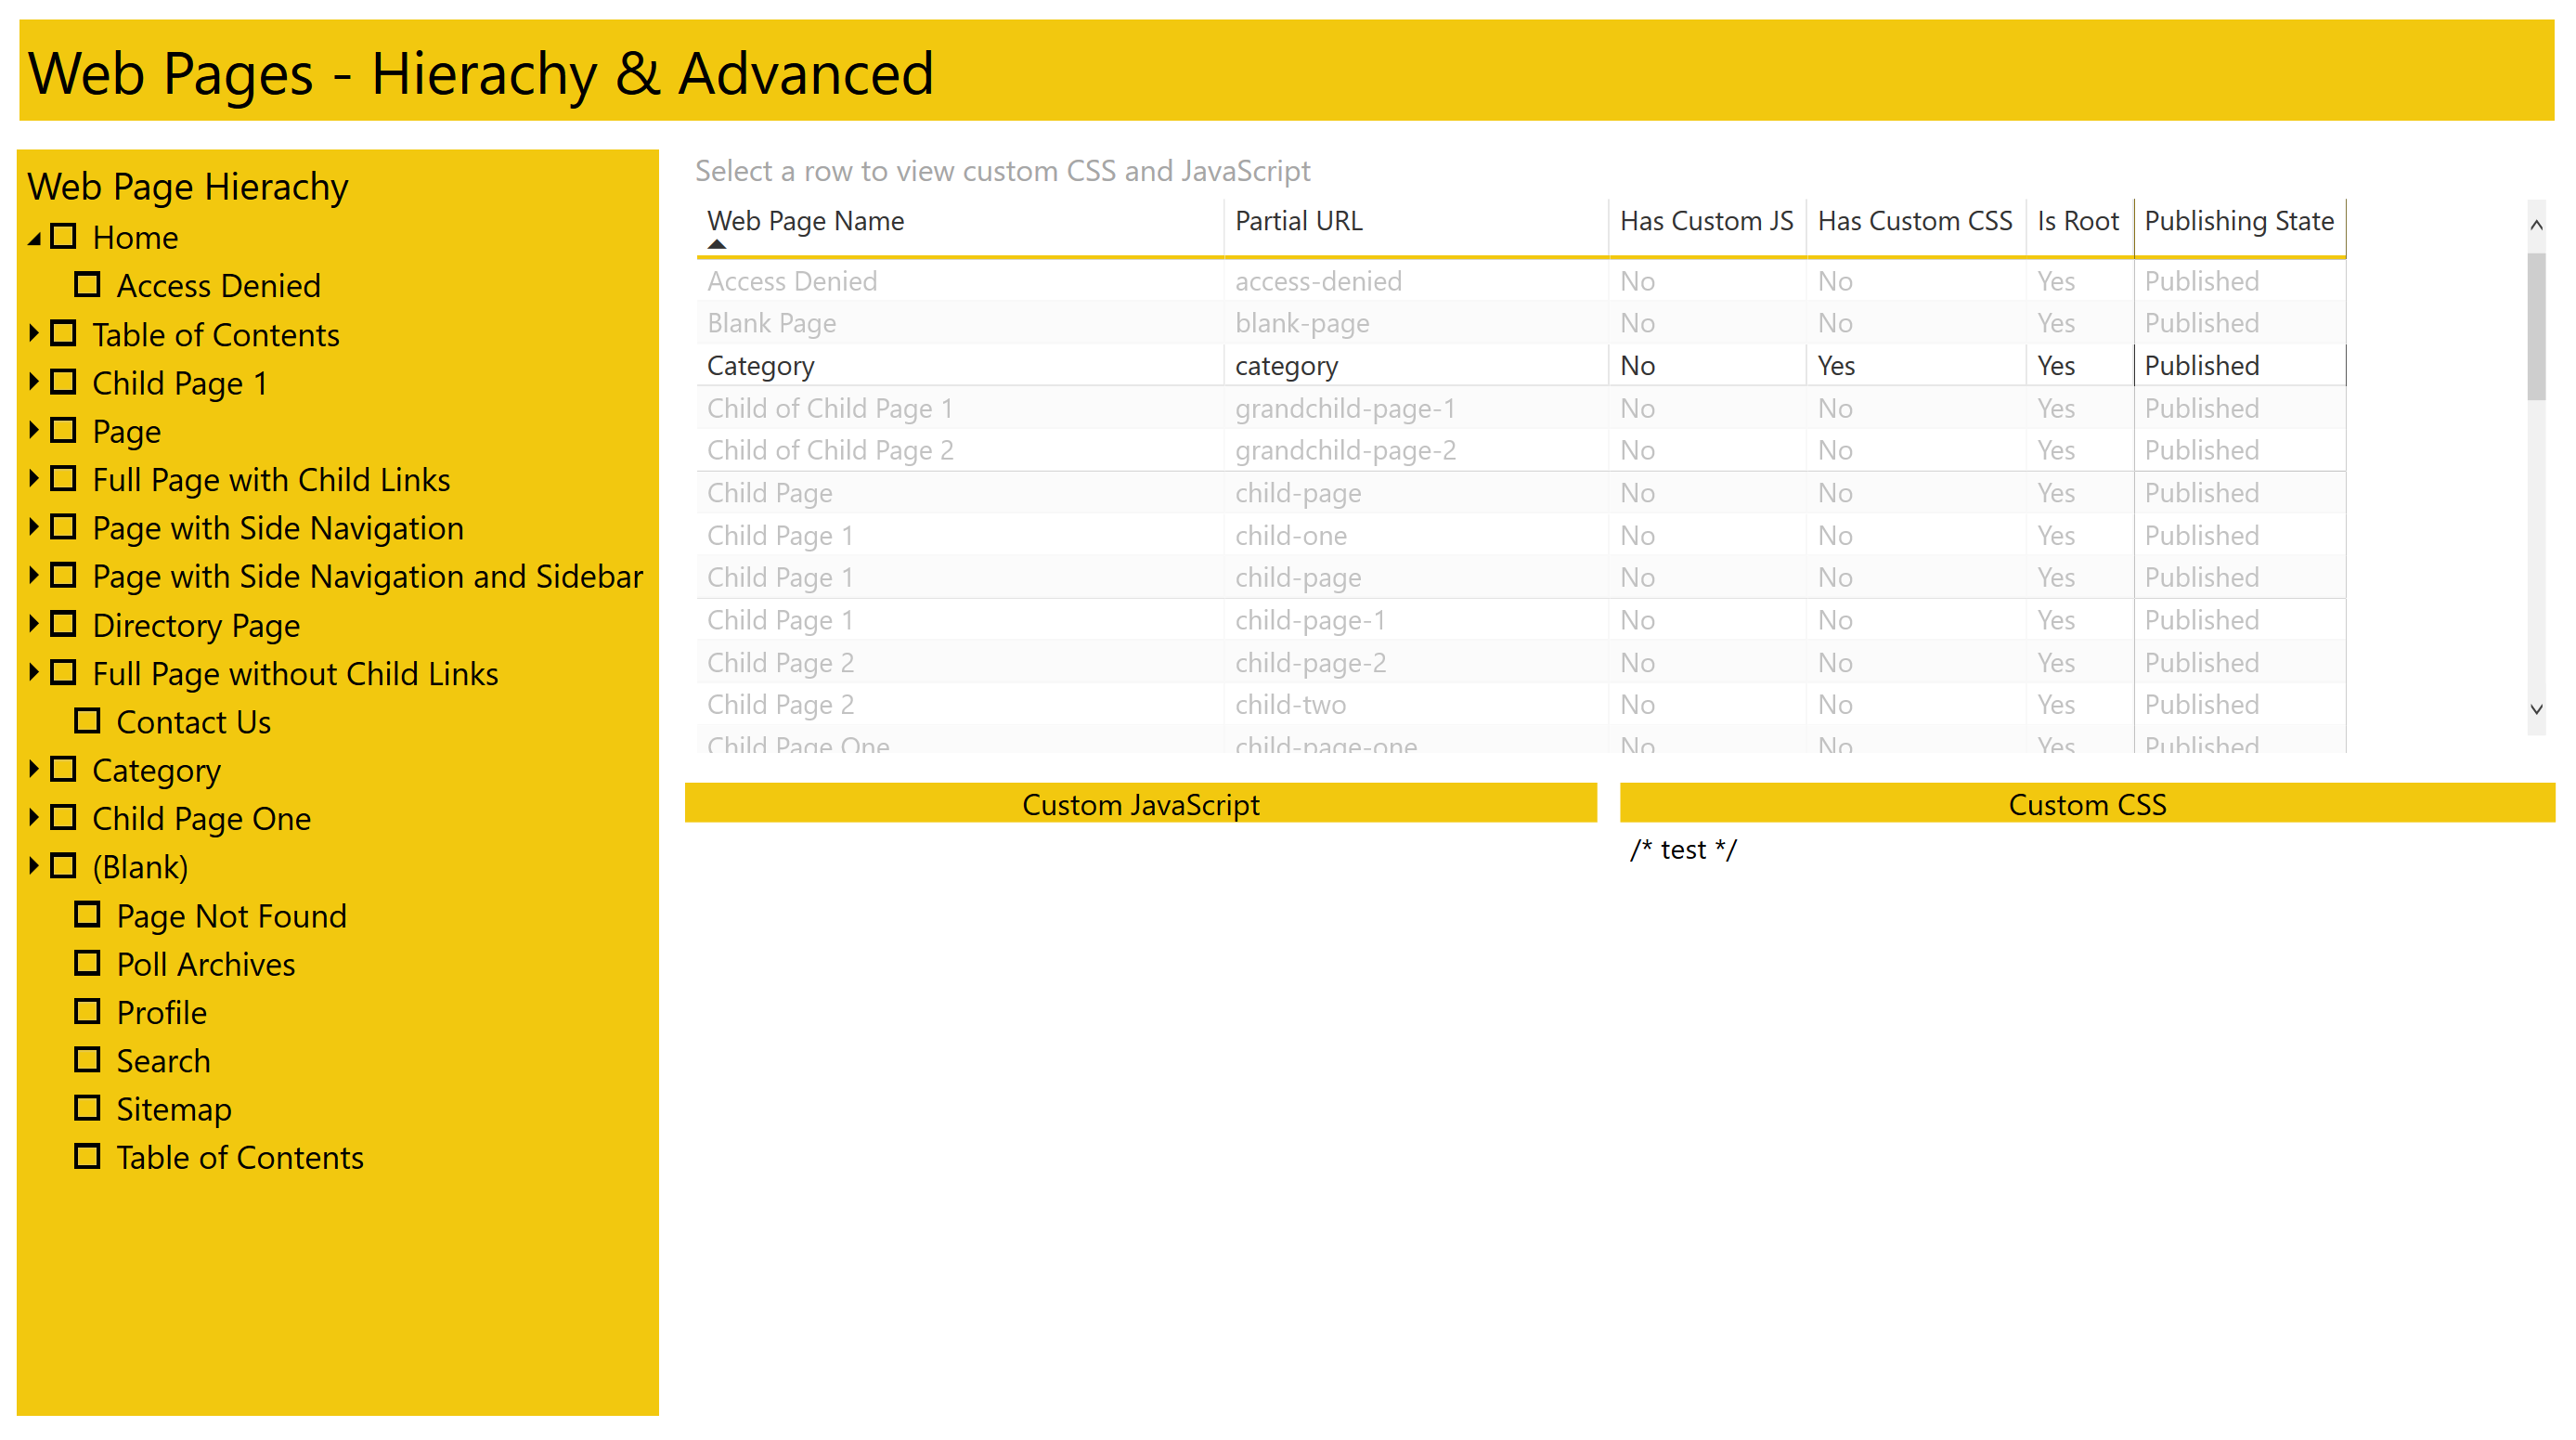

The dashboard page shown, as its layout file describes it:
{"tool":"powerbi","page":{"name":"Web Pages - Advanced","canvas":[1280,720],"ordinal":3},"visuals":[{"type":"HierarchySlicer1458836712039","fields":{"Fields":["Web Pages.Parent Page","Web Pages.Web Page Name"]},"box":[11.5,79,318.4,627.9],"z":0},{"type":"htmlViewerB24A1AEC2B4F4998B8E9A380662CAA2A","title":"Custom JavaScript","fields":{"category":["Web Pages.Display JS"]},"box":[342.6,393.6,452.1,315.9],"z":1000},{"type":"tableEx","title":"Select a row to view custom CSS and JavaScript","fields":{"Values":["Web Pages.Web Page Name","Web Pages.Partial URL","Web Pages.Has Custom JS","Web Pages.Has Custom CSS","Web Pages.Is Root","Web Pages.Publishing State"]},"box":[342.6,79,927.2,304.4],"z":3000},{"type":"actionButton","box":[12.9,15.2,1256.5,50.3],"z":4000},{"type":"htmlViewerB24A1AEC2B4F4998B8E9A380662CAA2A","title":"Custom CSS","fields":{"category":["Web Pages.Display CSS"]},"box":[806.2,393.6,463.6,315.9],"z":5000}]}

Visuals, with their boxes in screenshot pixels (x1, y1, x2, y2), scaled from the page's 1280x720 canvas onto the 2576x1440 screenshot:
HierarchySlicer1458836712039 - Web Pages.Parent Page x Web Pages.Web Page Name: 23, 158, 664, 1414
"Custom JavaScript" htmlViewerB24A1AEC2B4F4998B8E9A380662CAA2A: 690, 787, 1599, 1419
"Select a row to view custom CSS and JavaScript" tableEx: 690, 158, 2556, 767
actionButton: 26, 31, 2555, 131
"Custom CSS" htmlViewerB24A1AEC2B4F4998B8E9A380662CAA2A: 1623, 787, 2556, 1419
